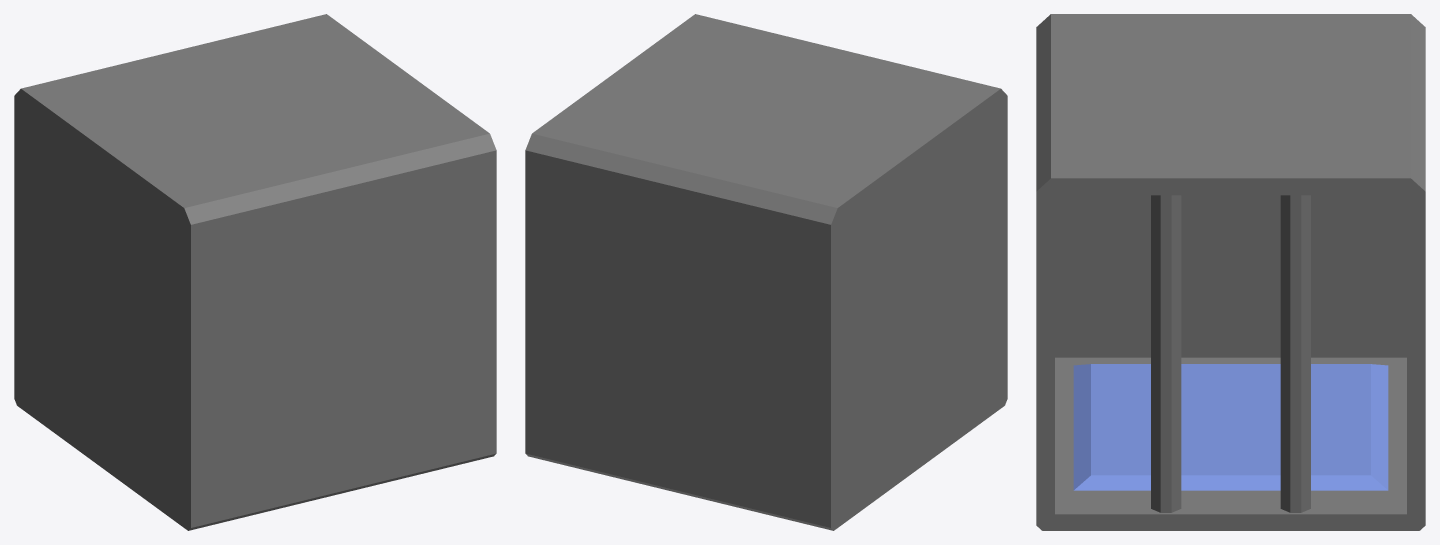
File: Cage (1).fbx
3 views of the same model, side by side, from view 1: azimuth 30°, elevation 25°; view 2: azimuth 150°, elevation 25°; view 3: azimuth 270°, elevation 25° (orthographic). The views are drawn at different scales.
Parts seen in each view (by area): view 1: Cube; view 2: Cube; view 3: Cube.
Part boxes in pixels (x1=…): Cube: x1=14, y1=14, x2=496, y2=530; Cube: x1=525, y1=14, x2=1007, y2=530; Cube: x1=1036, y1=14, x2=1425, y2=530.
Size of the model in its own units: 100 by 100 by 100.
